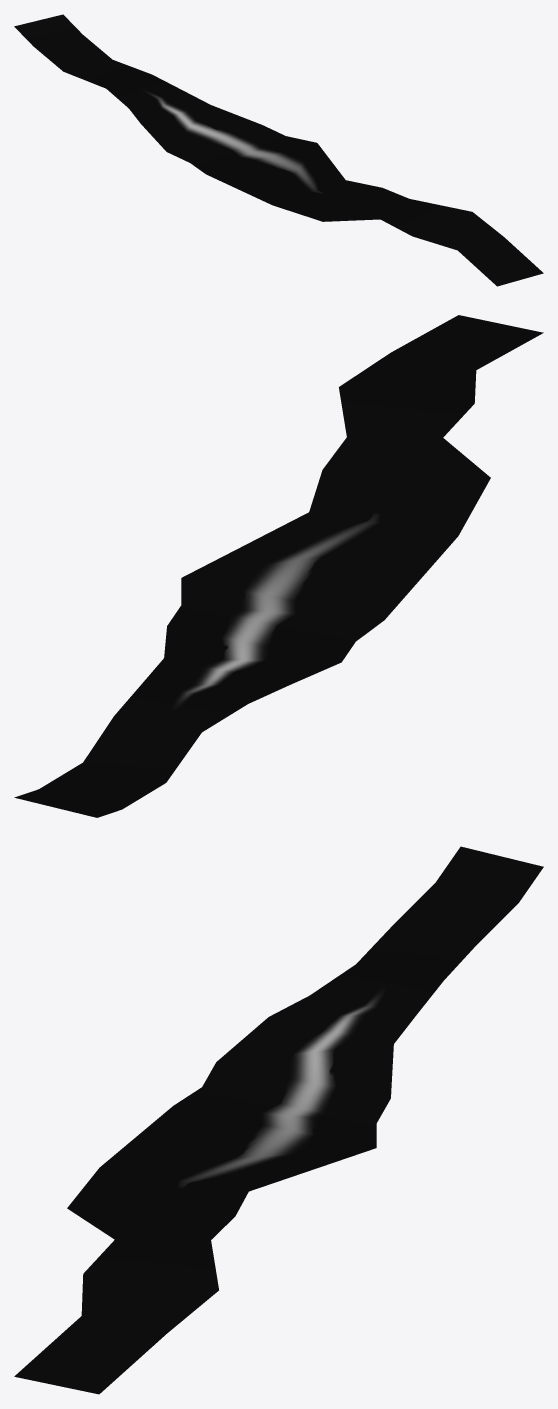
File: blizzard_fx_plane_02.fbx
3 renders of one model, top to bottom at view 1: azimuth 30°, elevation 25°; view 2: azimuth 150°, elevation 25°; view 3: azimuth 330°, elevation 25°, orthographic. The views are drawn at different scales.
Parts seen in each view (by area): view 1: blizzard_fx_plane_02; view 2: blizzard_fx_plane_02; view 3: blizzard_fx_plane_02.
Boxes of the visible parts, x1,y1,x2,y2 form: blizzard_fx_plane_02: [14, 14, 543, 286]; blizzard_fx_plane_02: [14, 315, 543, 817]; blizzard_fx_plane_02: [14, 846, 543, 1394].
Bounding box in the file's own units: 5.75 × 0.6596 × 23.5.
